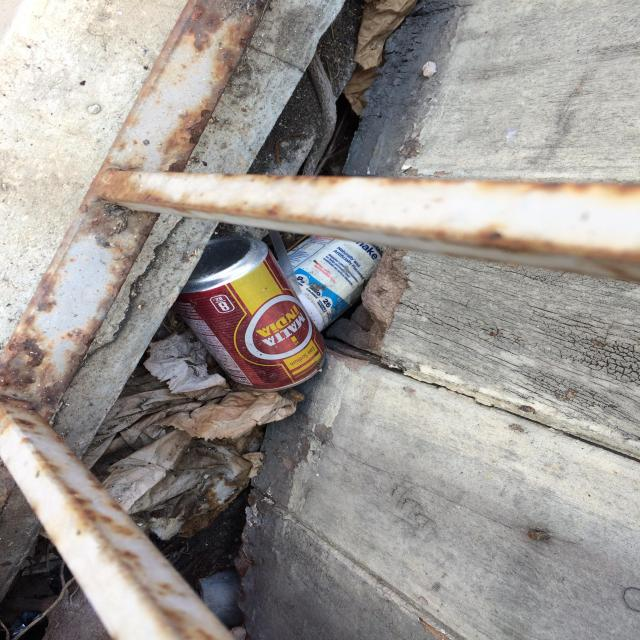Drink can: (174, 236, 325, 392)
Other plastic container: (289, 235, 386, 331)
Paper bag: (82, 332, 305, 475), (101, 429, 253, 540), (343, 0, 418, 115)
Plastic straw: (267, 229, 302, 295)
